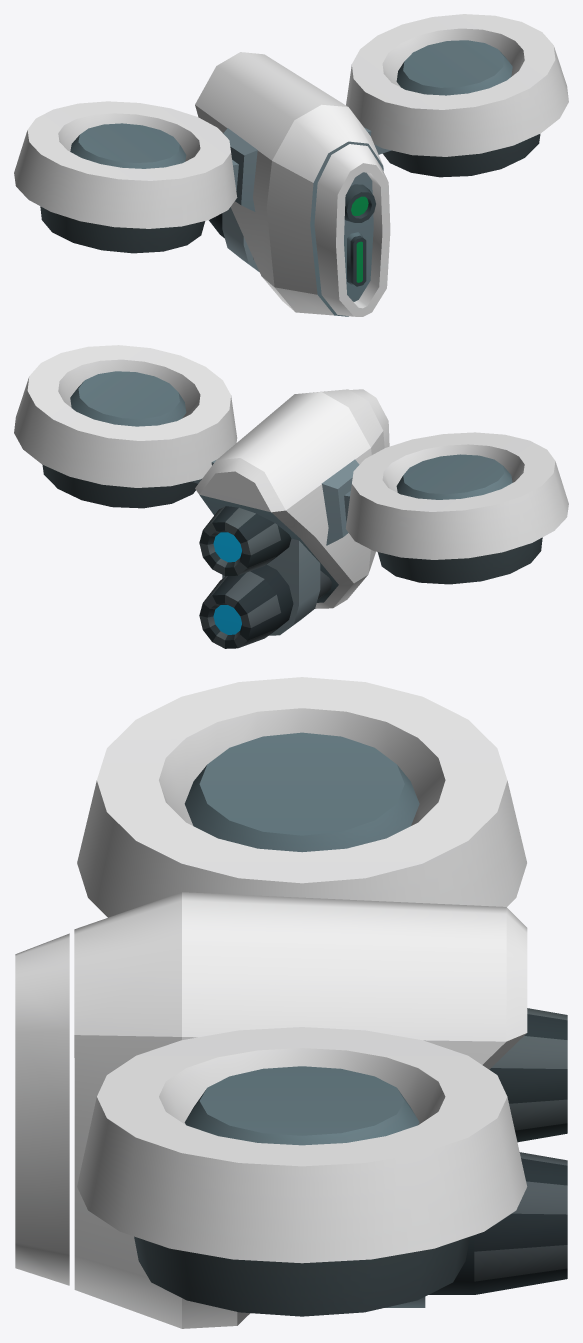
File: Drone_010.glb
3 renders of one model, top to bottom at view 1: azimuth 30°, elevation 25°; view 2: azimuth 150°, elevation 25°; view 3: azimuth 270°, elevation 25°, orthographic. The views are drawn at different scales.
Visible parts, largest first — view 1: Drone_010; view 2: Drone_010; view 3: Drone_010.
Boxes of the visible parts, <box> form: Drone_010: <box>14,14,568,316</box>; Drone_010: <box>14,345,568,648</box>; Drone_010: <box>15,677,567,1328</box>.
Bounding box in the file's own units: 1.07 × 0.4049 × 0.4862.
2 materials, 2 textured.
